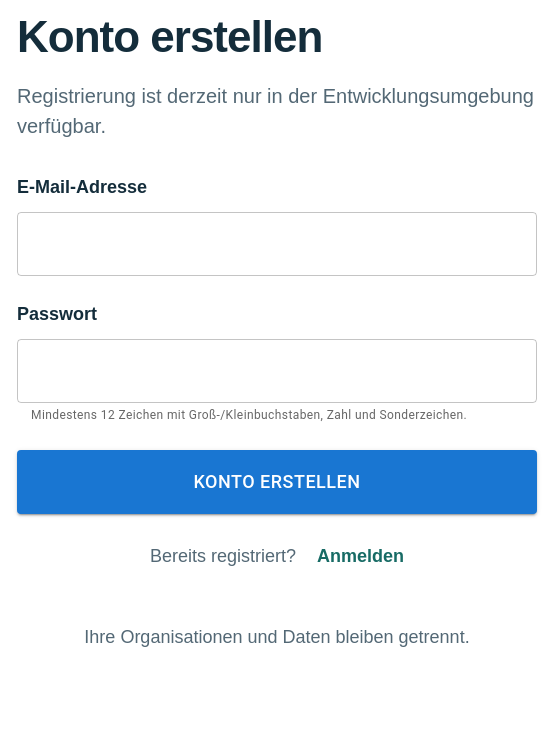
Test case: registration never claims success when backend is unavailable
Type "example@example.test" into the field labelled "E-Mail-Adresse" at (277,244), box x1=17 y1=214 x2=537 y2=273
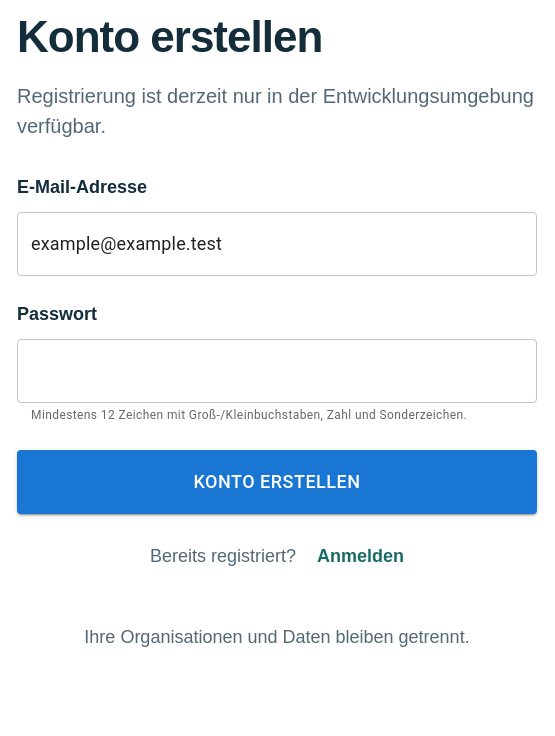
Type "Only-Test-Password-42!" into the password field labelled "Passwort" at (277,371), box x1=17 y1=341 x2=537 y2=400
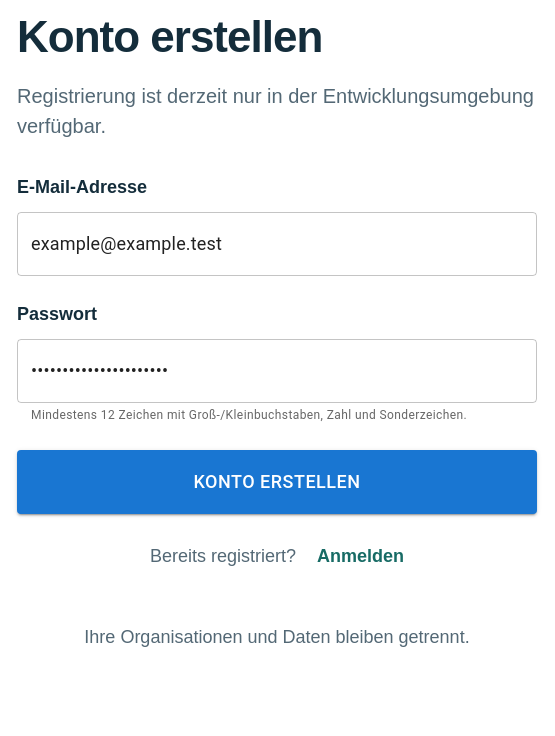
Click the button "Konto erstellen" at (277,482), box x1=17 y1=450 x2=537 y2=514
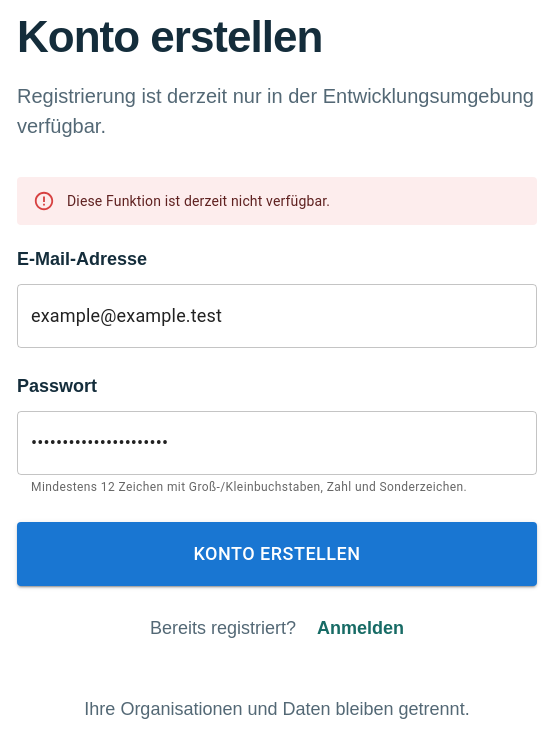
expect the button "Konto erstellen" is enabled: met, box x1=17 y1=522 x2=537 y2=586
expect the message reads "Diese Funktion ist derzeit nicht verfügbar.": met, box x1=67 y1=193 x2=330 y2=209
